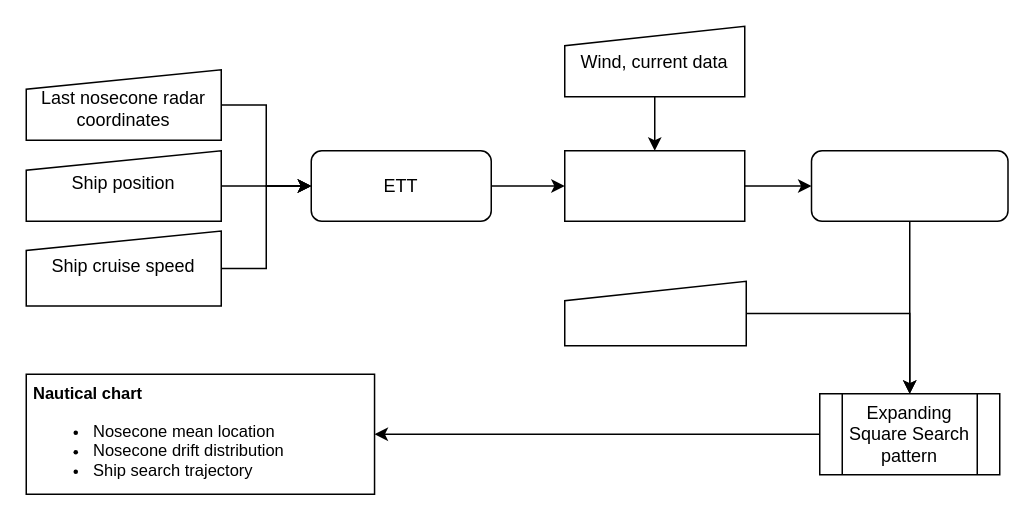
Image size: 1035x521. Some labels were removed from this diagram. Each missing label, with the centre of its shape:
Drift simulation: point (654, 185)
Mean nosecone location at arrival time: point (909, 185)
Visibility: point (654, 313)
